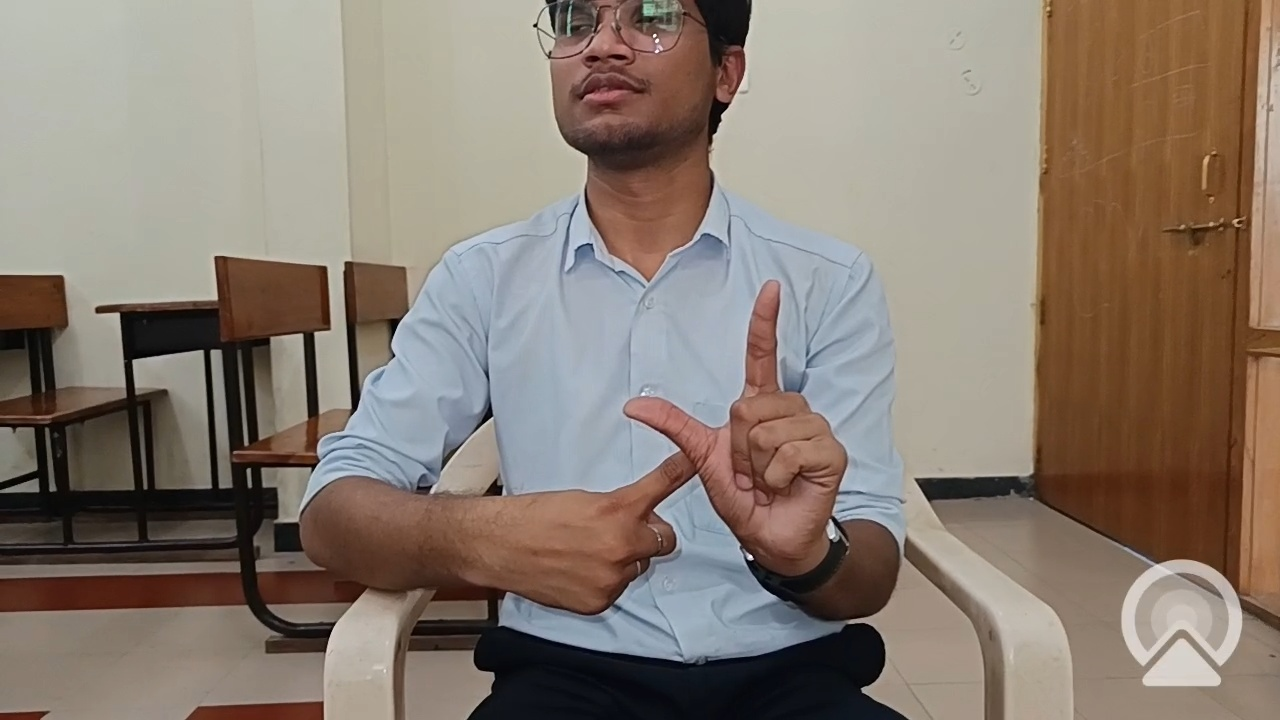Y: (429, 262, 873, 631)
